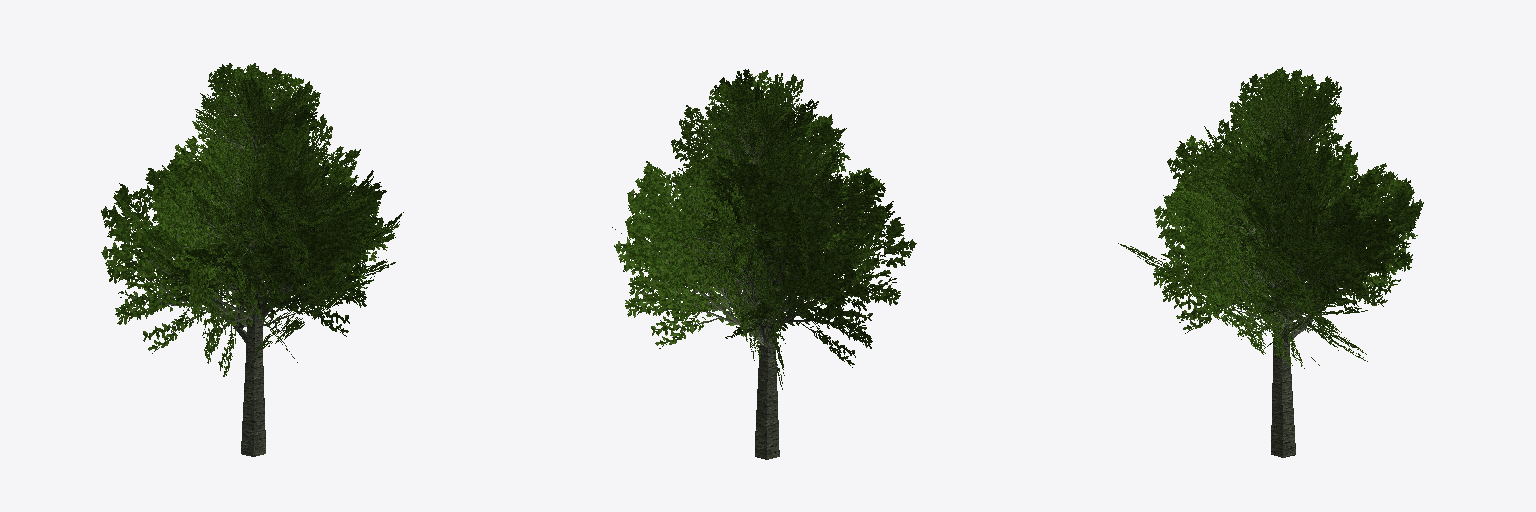
3 views of the same model, side by side, from view 1: azimuth 30°, elevation 25°; view 2: azimuth 150°, elevation 25°; view 3: azimuth 270°, elevation 25° (orthographic).
Visible parts, largest first — view 1: Default; view 2: Default; view 3: Default.
Boxes of the visible parts, <box> form: Default: <box>101,63,403,456</box>; Default: <box>612,69,916,459</box>; Default: <box>1118,67,1423,457</box>.
Bounding box in the file's own units: 14.81 × 15.18 × 13.59.
2 materials, 2 textured.